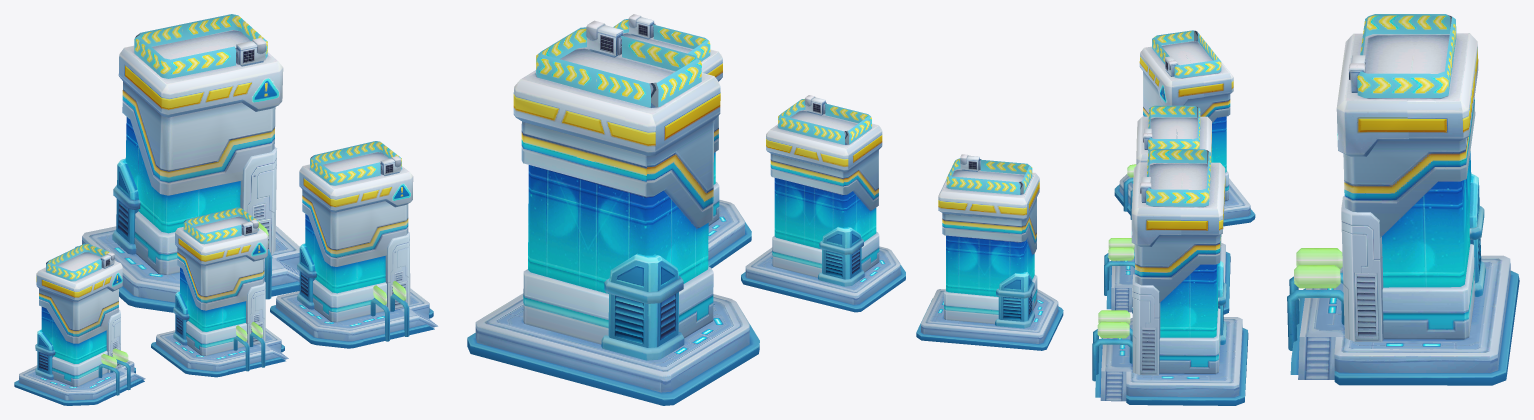
The model's file is buildingA.glb.
The picture shows the model from 3 angles, left to right: view 1: azimuth 30°, elevation 25°; view 2: azimuth 150°, elevation 25°; view 3: azimuth 270°, elevation 25°; orthographic projection. The views are drawn at different scales.
Visible parts, largest first — view 1: xszy_jianzhu_07_xszy_jianzhu_07_0; view 2: xszy_jianzhu_07_xszy_jianzhu_07_0; view 3: xszy_jianzhu_07_xszy_jianzhu_07_0.
Boxes of the visible parts, <box> form: xszy_jianzhu_07_xszy_jianzhu_07_0: <box>14,14,438,405</box>; xszy_jianzhu_07_xszy_jianzhu_07_0: <box>467,14,1063,405</box>; xszy_jianzhu_07_xszy_jianzhu_07_0: <box>1092,14,1519,405</box>.
Bounding box in the file's own units: 141 × 81.39 × 107.
1 material, 1 textured.
